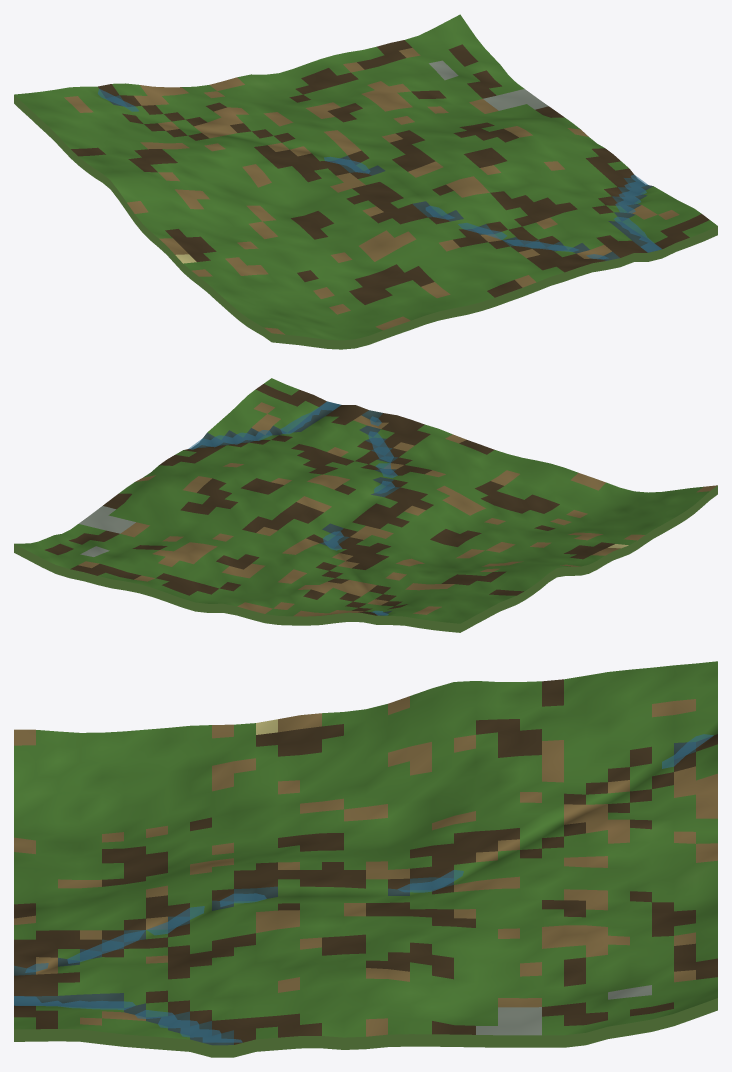
File: chunk_1_3_lod1.glb
3 views of the same model, one above another, from view 1: azimuth 30°, elevation 25°; view 2: azimuth 150°, elevation 25°; view 3: azimuth 270°, elevation 25° (orthographic). The views are drawn at different scales.
Visible parts, largest first — view 1: Surface_Grass, Surface_Mud, Surface_Dirt, Skirt, Surface_Water, Water, Surface_Gravel; view 2: Surface_Grass, Surface_Mud, Surface_Dirt, Skirt, Surface_Water, Water, Surface_Gravel; view 3: Surface_Grass, Surface_Mud, Surface_Dirt, Skirt, Surface_Water, Water, Surface_Gravel.
Part boxes in pixels (bbox=[...]): Surface_Grass: bbox=[14, 14, 717, 340]; Surface_Mud: bbox=[71, 40, 709, 304]; Surface_Dirt: bbox=[64, 48, 679, 334]; Skirt: bbox=[14, 95, 717, 349]; Surface_Water: bbox=[106, 95, 661, 260]; Water: bbox=[98, 89, 661, 259]; Surface_Gravel: bbox=[429, 60, 548, 110]; Surface_Grass: bbox=[14, 378, 709, 623]; Surface_Mud: bbox=[45, 384, 614, 615]; Surface_Dirt: bbox=[78, 402, 717, 616]; Skirt: bbox=[14, 485, 717, 632]; Surface_Water: bbox=[192, 401, 399, 615]; Water: bbox=[188, 401, 397, 615]; Surface_Gravel: bbox=[78, 506, 135, 556]; Surface_Grass: bbox=[14, 661, 717, 1039]; Surface_Mud: bbox=[14, 679, 717, 1044]; Surface_Dirt: bbox=[14, 696, 717, 1036]; Skirt: bbox=[14, 998, 717, 1057]; Surface_Water: bbox=[14, 742, 695, 1045]; Water: bbox=[14, 734, 713, 1042]; Surface_Gravel: bbox=[476, 985, 651, 1035].
Bounding box in the file's own units: 256 × 46.98 × 256.
